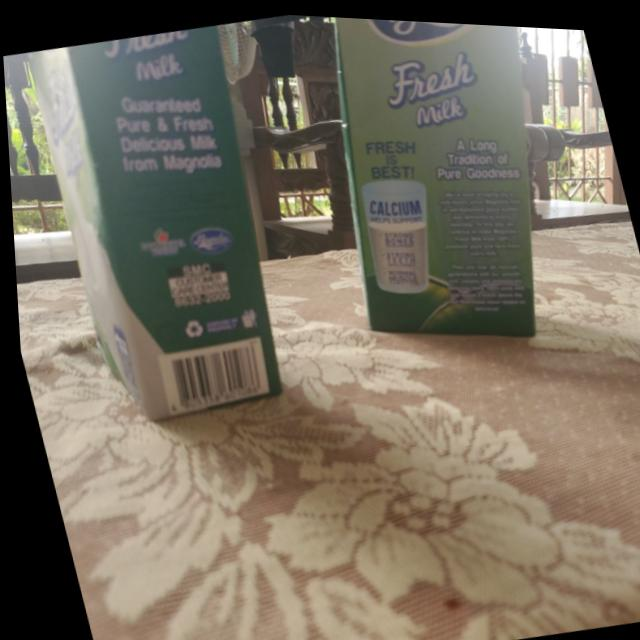milk: (21, 16, 302, 431), (289, 12, 594, 367)
